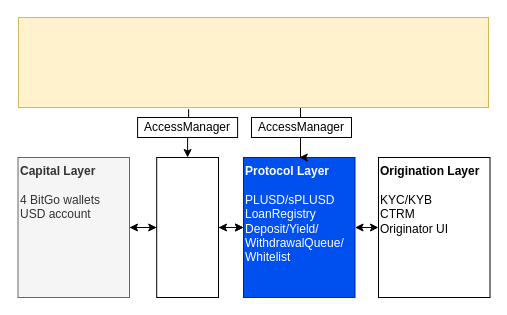
This 507x315 diagram has some shape labels left out. The shapes that lost their labels are listed below. From the top down, each one's centre as x and y in pixels, then its label:
pixel 253 62: Governance ADMIN Safe (3/5, 48h) RISK_COUNCIL (3/5, 24h) GUARDIAN (2/5, instant)
pixel 187 227: Relayer Co-signs events Hardware circuit breaker
